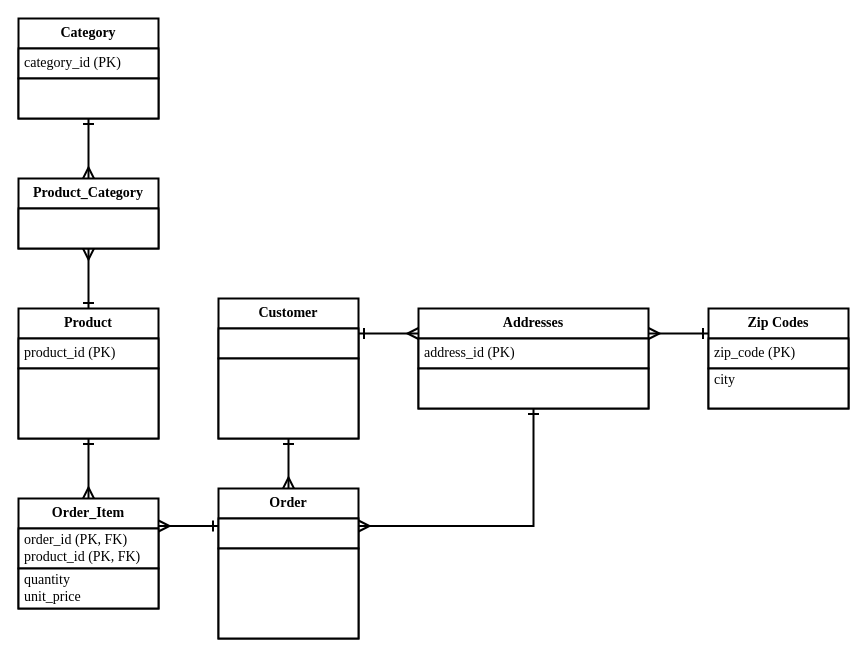
The diagram is 866 pixels wide and 656 high, and some of its shapes have lost their labels. Here are the shapes that lost their labels. From the top down, the centre of each, then its label:
At point 88,98: "title description".
At point 88,228: "product_id (PK, FK) category_id (PK, FK)".
At point 288,343: "customer_id (PK)".
At point 88,403: "name description price stock_quantity".
At point 288,398: "first_name, last_name email phone created_at".
At point 533,388: "street, house_number, zip_code customer_id (FK)".
At point 288,533: "order_id (PK)".
At point 288,593: "order_date status total_amount customer_id (FK) address_id (FK)".
